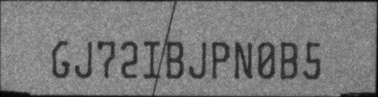0: (257, 40, 276, 80)
2: (120, 39, 139, 80)
5: (302, 41, 321, 80)
7: (97, 41, 115, 79)
B: (166, 40, 186, 79), (279, 40, 299, 79)
G: (52, 40, 71, 79)
I: (143, 40, 161, 79)
J: (74, 41, 94, 79), (189, 40, 207, 80)
N: (234, 39, 254, 80)
P: (211, 40, 230, 80)
